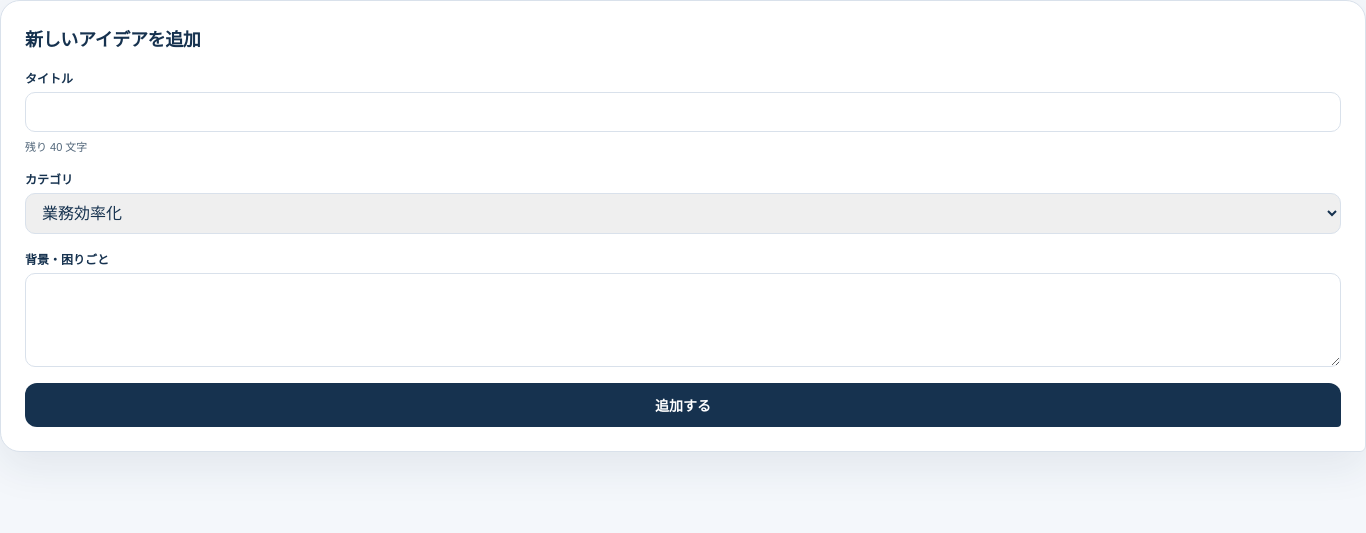
Ticket C: アイデア追加フォーム › 背景・困りごとが空の場合は理由を表示して追加しない
Type "有効なタイトル" into the field labelled "タイトル" at (683, 112), box [25,92,1341,132]
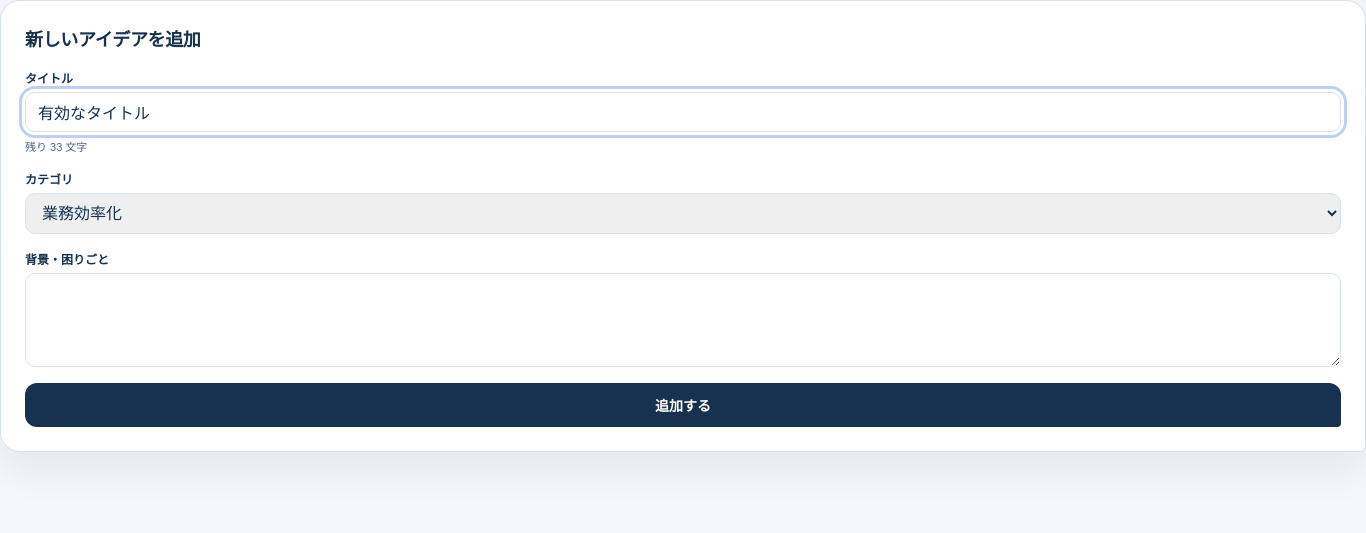
Click the button "追加する" at (683, 405), box [25,383,1341,427]
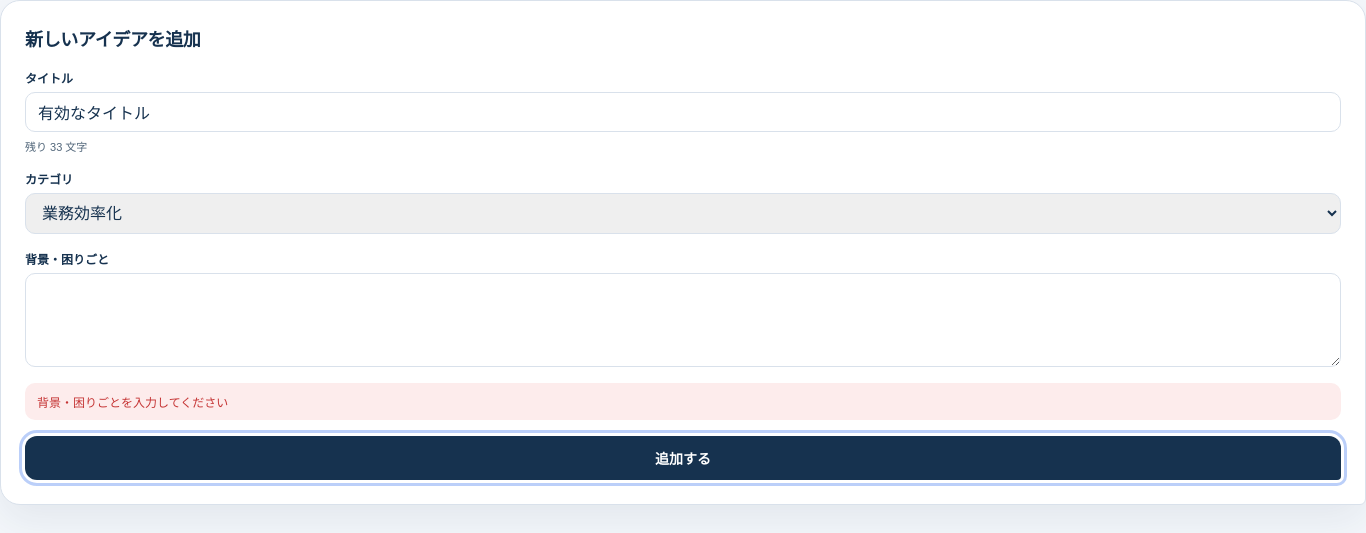
Expected: the message reads "背景・困りごとを入力してください", [37,396,228,410]
